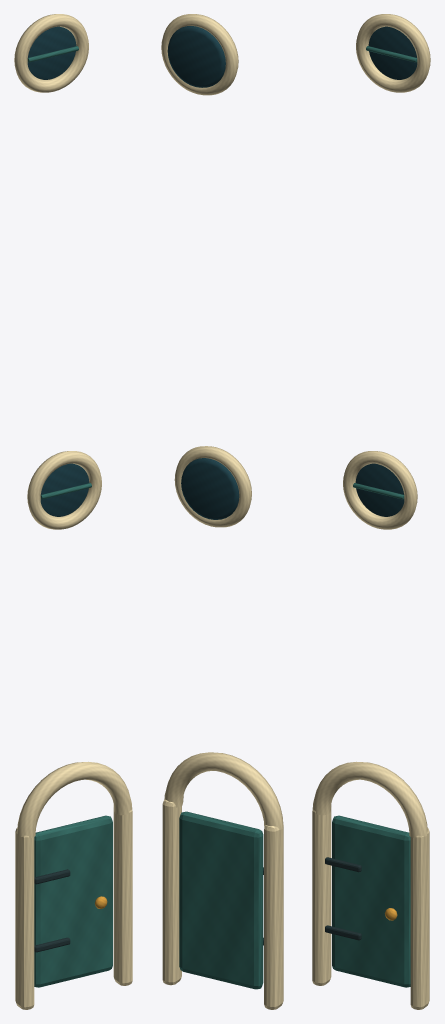
File: Lighthouse_Details.fbx
3 views of the same model, side by side, from view 1: azimuth 30°, elevation 25°; view 2: azimuth 150°, elevation 25°; view 3: azimuth 330°, elevation 25° (orthographic). The views are drawn at different scales.
Visible parts, largest first — view 1: Lighthouse_Details; view 2: Lighthouse_Details; view 3: Lighthouse_Details.
Part boxes in pixels (x1,y1,x2,y2): Lighthouse_Details: (14,14,132,1009); Lighthouse_Details: (161,14,283,1009); Lighthouse_Details: (312,14,430,1009).
Size of the model in its own units: 192 by 96.9 by 1557.
